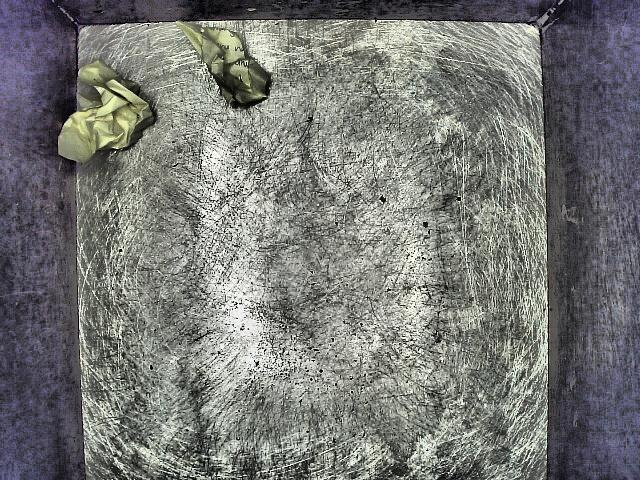Paper: (39, 43, 170, 172), (161, 9, 288, 139)
